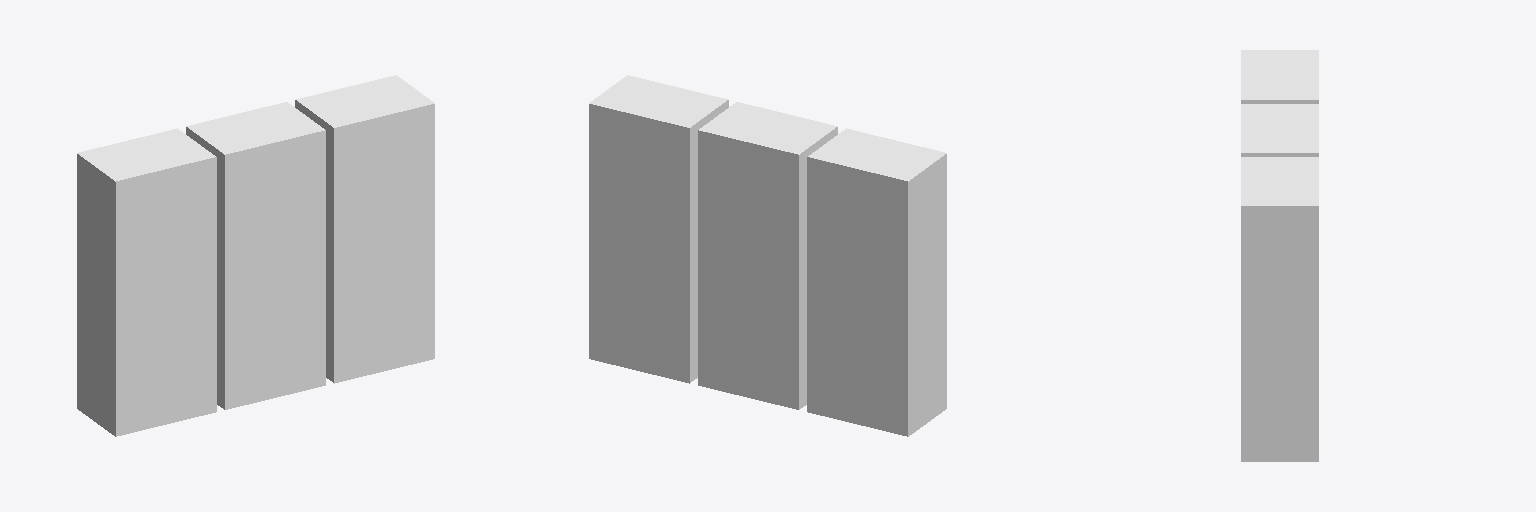
File: mesh_prop_locker_locked.obj
The picture shows the model from 3 angles: view 1: azimuth 30°, elevation 25°; view 2: azimuth 150°, elevation 25°; view 3: azimuth 270°, elevation 25°; orthographic projection.
Visible parts, largest first — view 1: object 1; view 2: object 1; view 3: object 1.
Boxes of the visible parts, x1=… form: object 1: x1=77, y1=75, x2=434, y2=436; object 1: x1=589, y1=75, x2=946, y2=436; object 1: x1=1241, y1=50, x2=1318, y2=461.
Bounding box in the file's own units: 3.8 × 2.9 × 0.8.